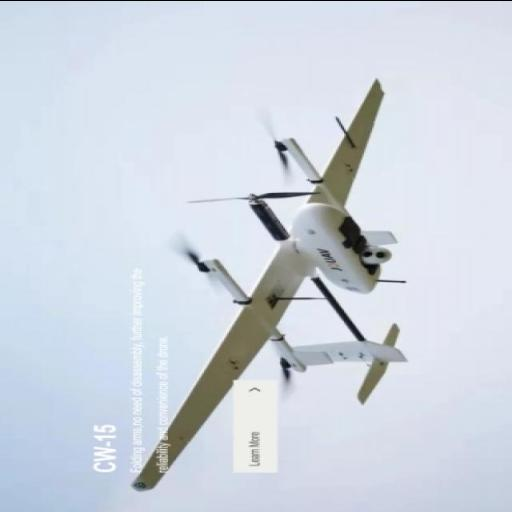uav: (182, 68, 460, 309)
